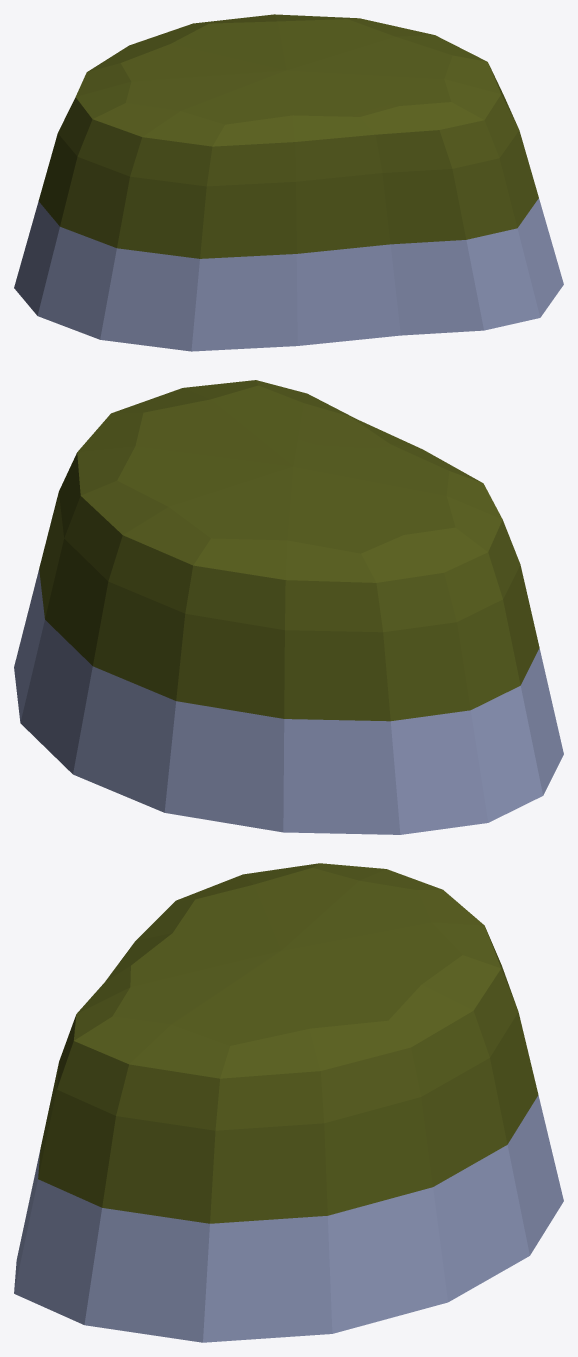
File: Island_4.fbx
The picture shows the model from 3 angles, top to bottom: view 1: azimuth 30°, elevation 25°; view 2: azimuth 150°, elevation 25°; view 3: azimuth 270°, elevation 25°; orthographic projection. The views are drawn at different scales.
Visible parts, largest first — view 1: Island_4; view 2: Island_4; view 3: Island_4.
Boxes of the visible parts, left/top/right/bottom form: Island_4: left=14, top=14, right=563, bottom=351; Island_4: left=14, top=380, right=563, bottom=834; Island_4: left=14, top=863, right=563, bottom=1342.
Bounding box in the file's own units: 10.39 × 4.45 × 8.73.
